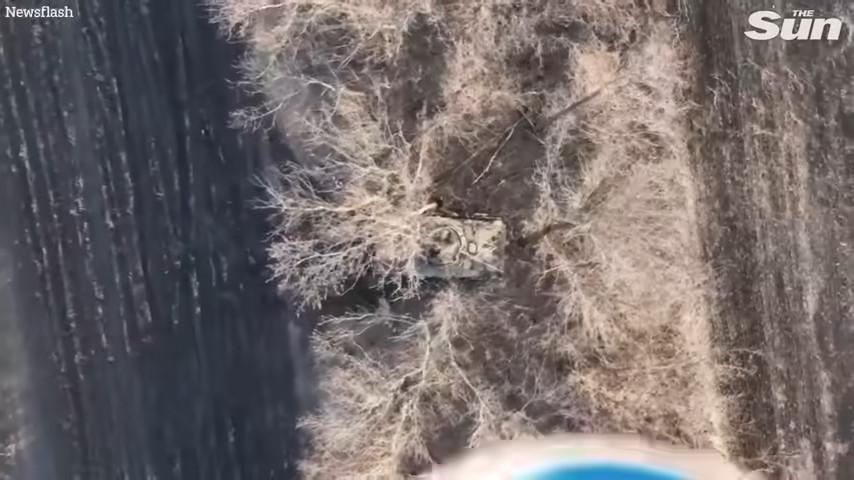tank: (415, 215, 506, 277)
